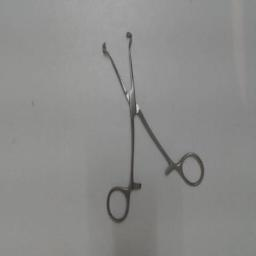Babcock Tissue Forceps: (100, 28, 208, 226)
